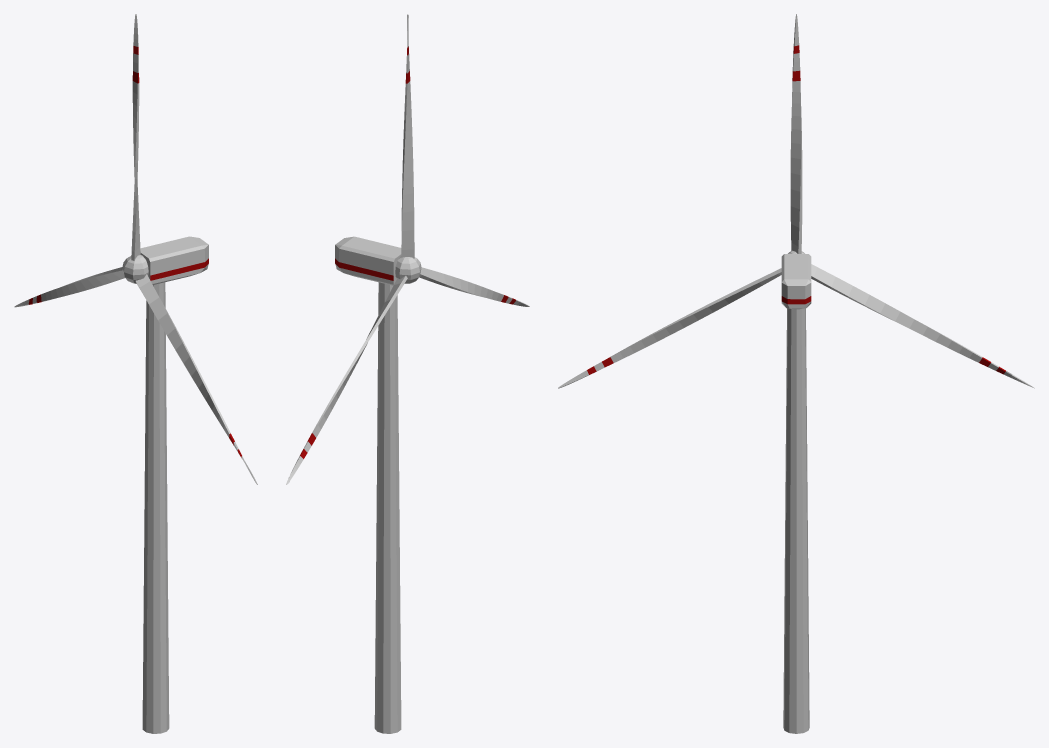
The model's file is WindMill.fbx.
3 views of the same model, side by side, from view 1: azimuth 30°, elevation 25°; view 2: azimuth 150°, elevation 25°; view 3: azimuth 270°, elevation 25° (orthographic). The views are drawn at different scales.
Parts seen in each view (by area): view 1: pCylinder11; view 2: pCylinder11; view 3: pCylinder11.
Part boxes in pixels (bbox=[...]): pCylinder11: bbox=[14, 14, 257, 733]; pCylinder11: bbox=[286, 14, 529, 733]; pCylinder11: bbox=[558, 14, 1034, 733].
Bounding box in the file's own units: 7.89 × 67.38 × 41.33.
